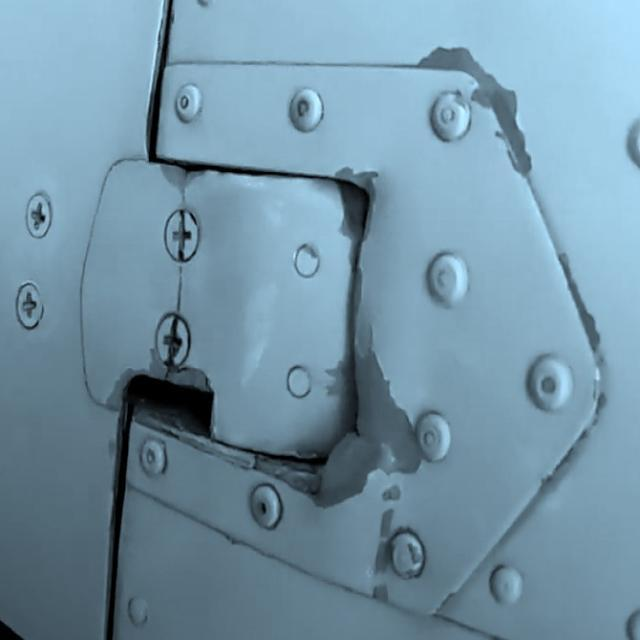crack: (163, 270, 187, 312)
